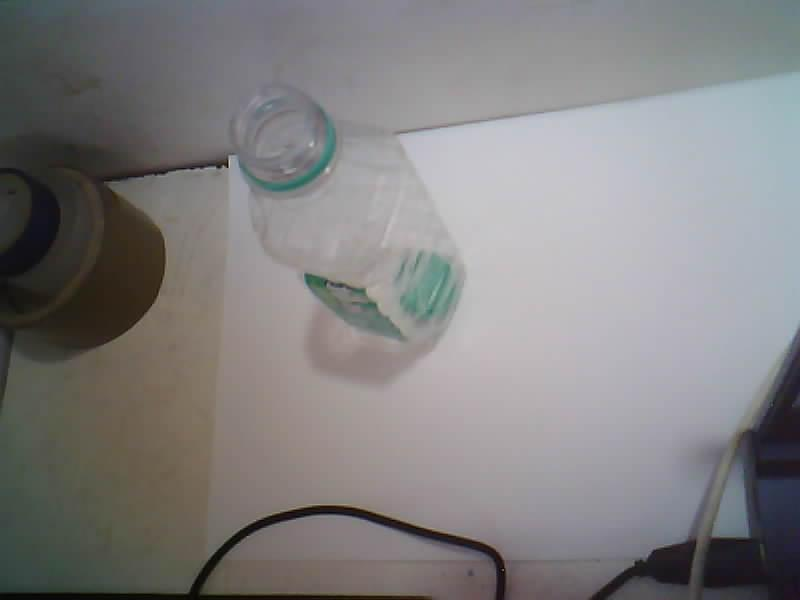non-biodegradable: (230, 84, 464, 344)
